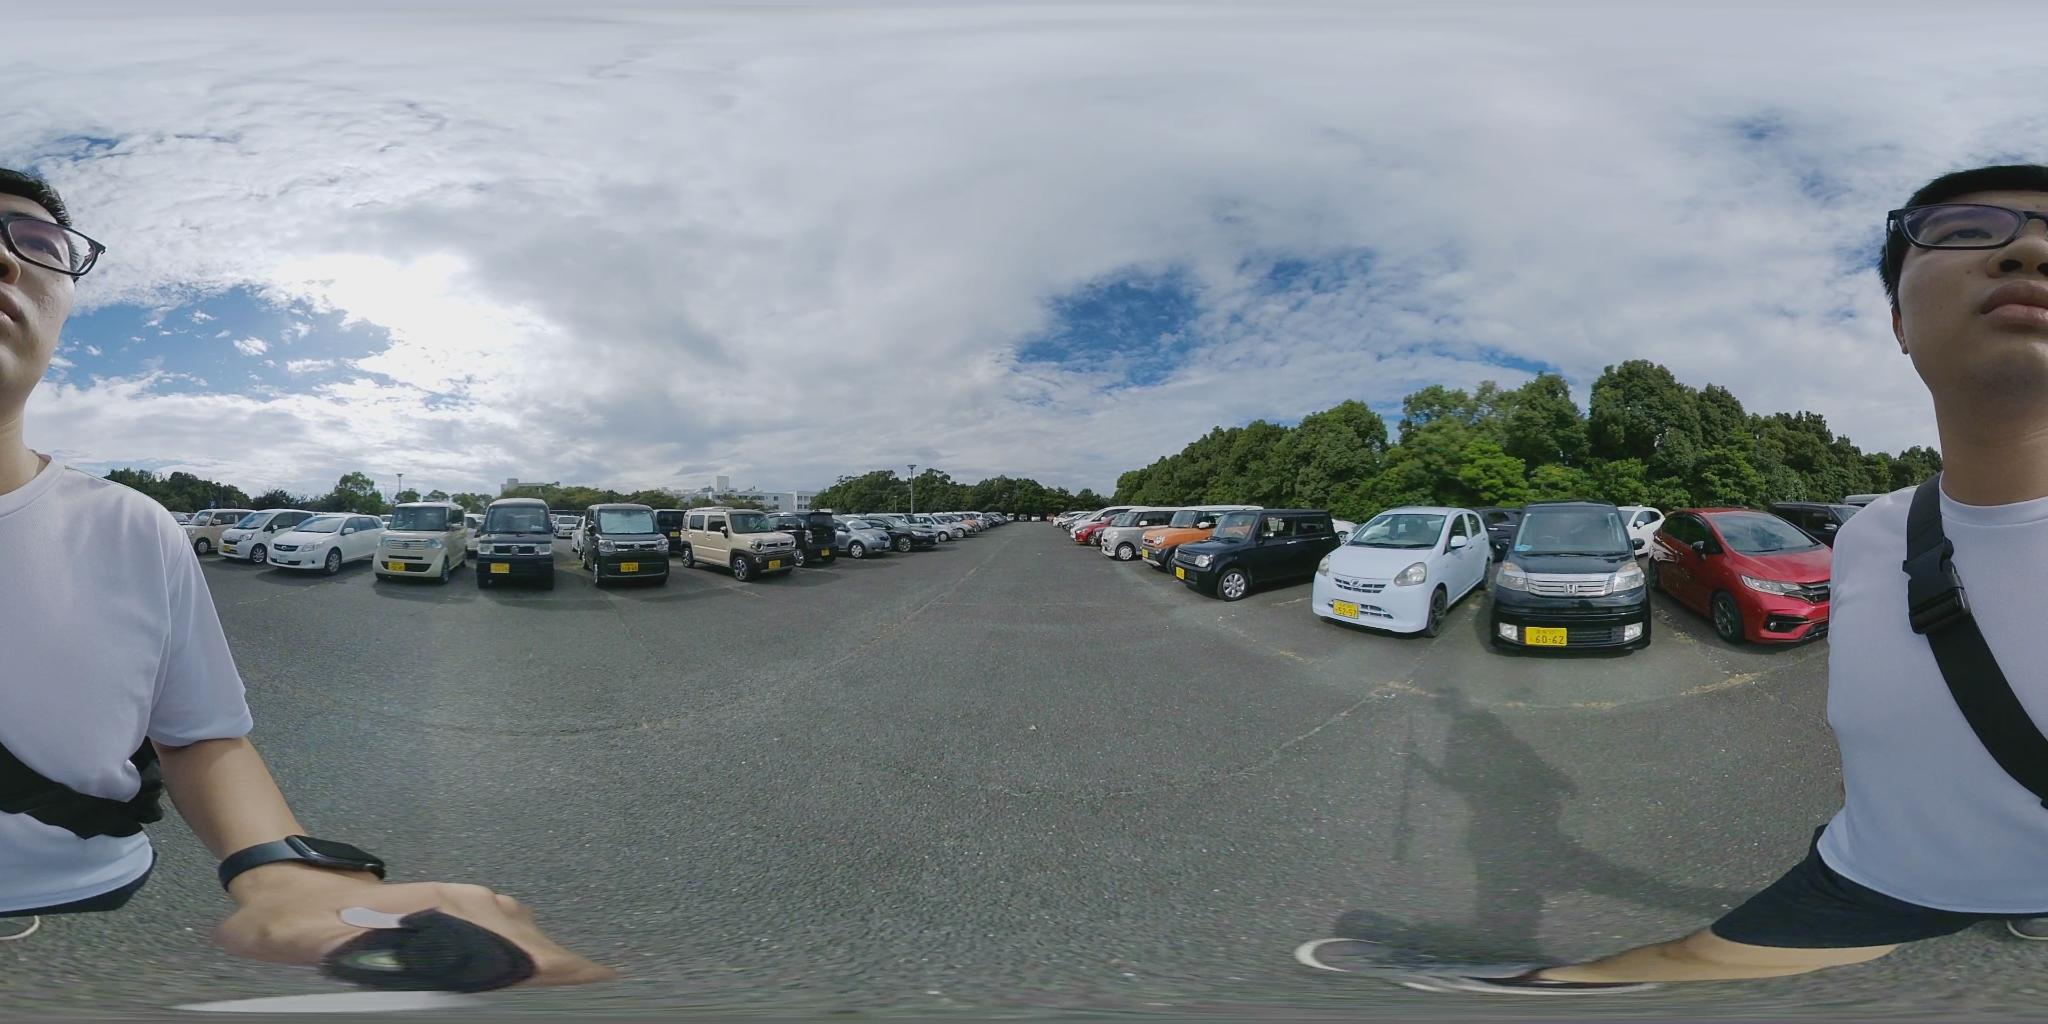car: (1659, 507, 1853, 647), (1499, 503, 1655, 662), (1309, 509, 1499, 639), (1176, 508, 1336, 589), (236, 512, 387, 575), (683, 508, 795, 580), (376, 503, 468, 586), (479, 500, 555, 590), (584, 503, 666, 585), (206, 508, 324, 563), (176, 512, 265, 558), (763, 512, 837, 562), (820, 515, 892, 556), (879, 517, 946, 550), (900, 517, 969, 547), (1063, 513, 1121, 545), (927, 516, 986, 543), (959, 515, 999, 536)
